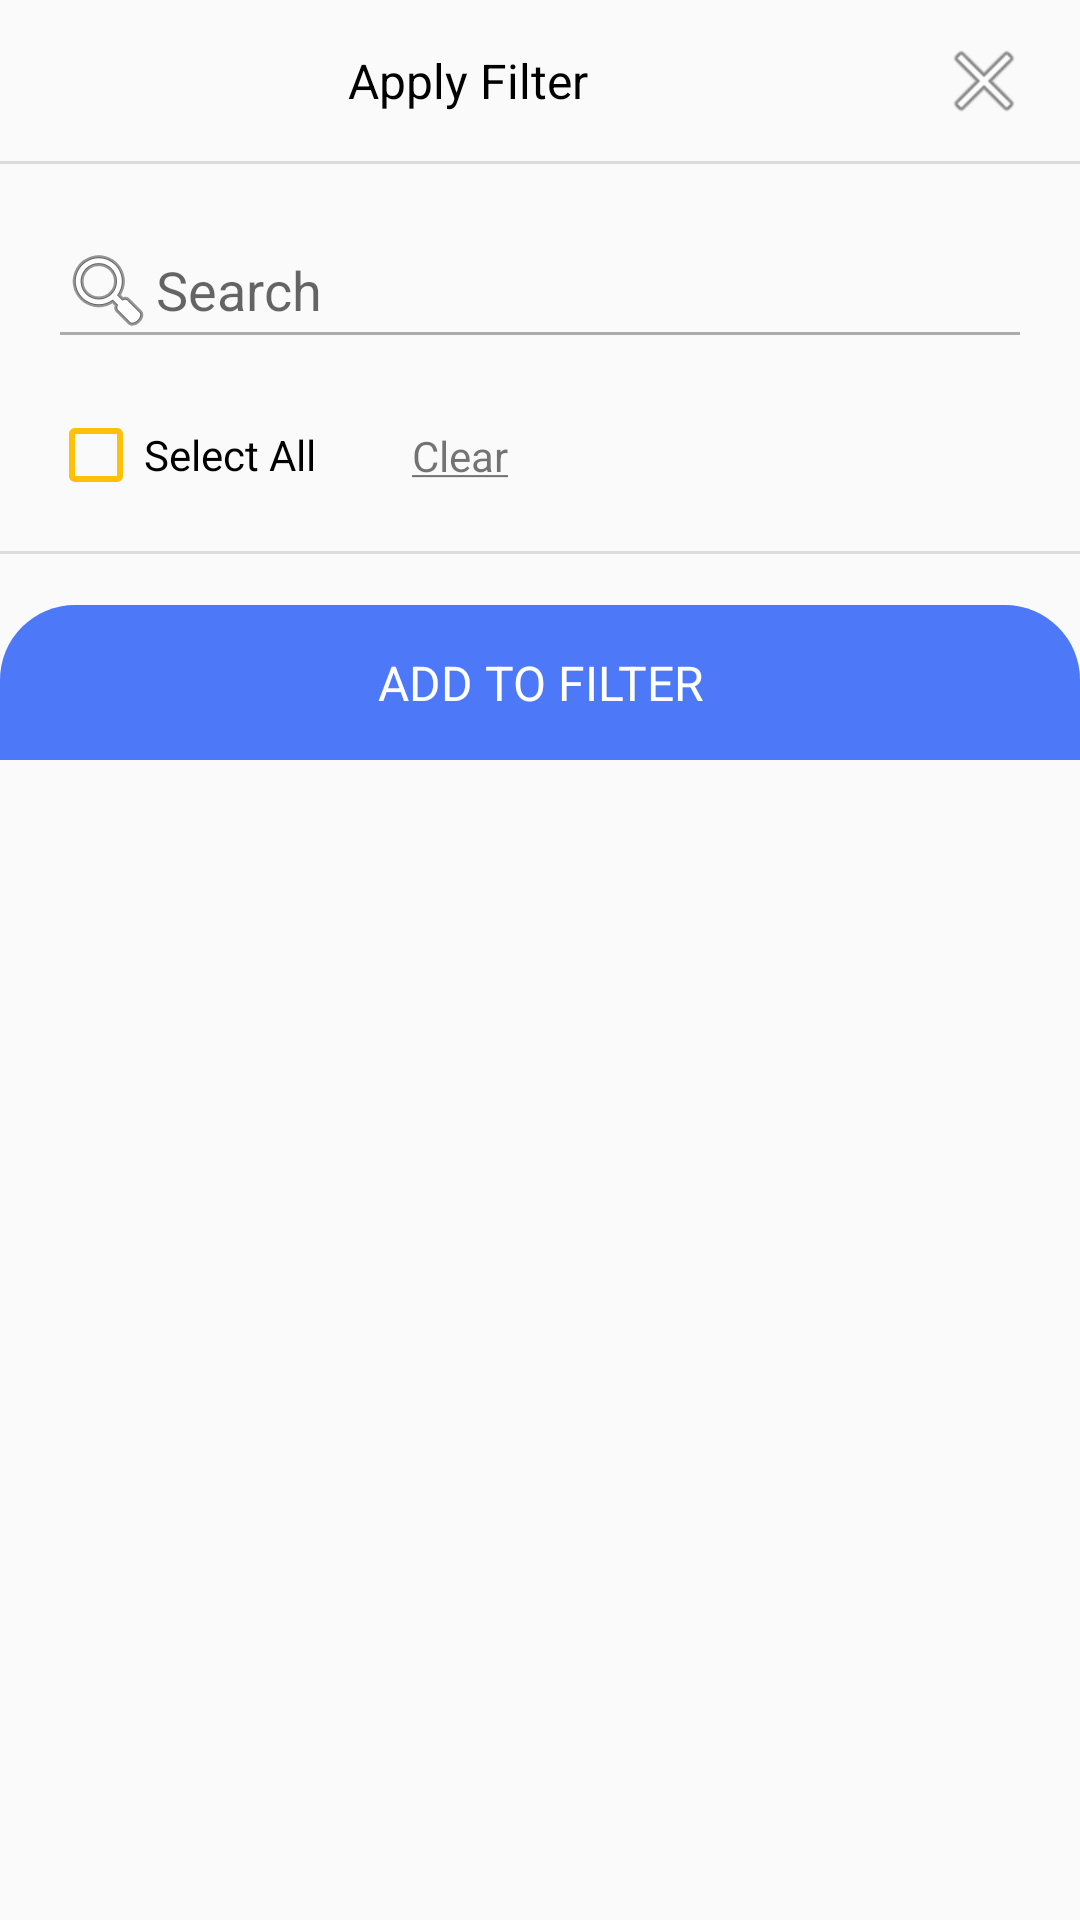

Named icons in this screenshot (1080w x 1920h) and their centers, [x,y]:
close clear cancel: [984,81]
